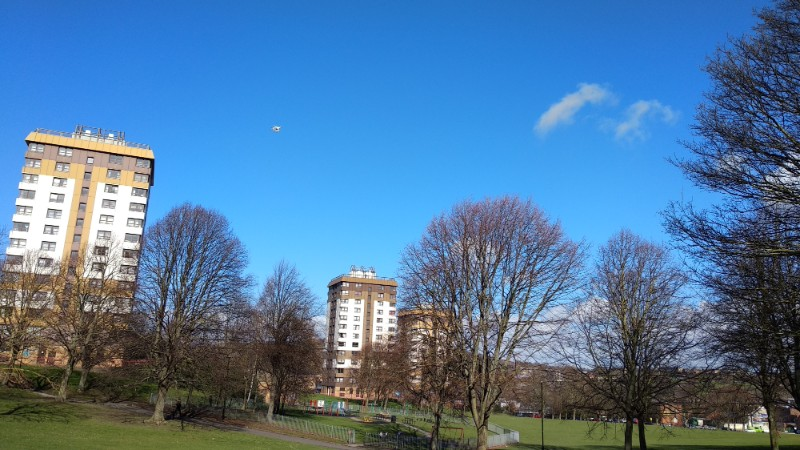drone: (272, 125, 281, 132)
